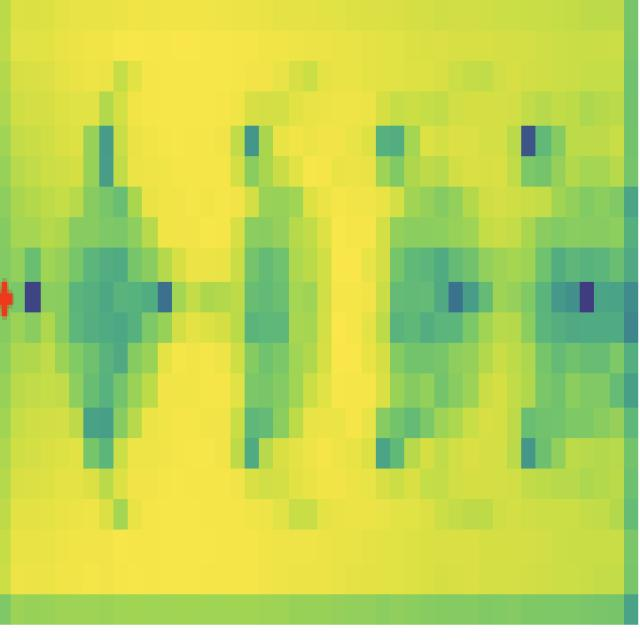Concrete: (57, 175, 156, 419)
Glass: (527, 171, 621, 443)
Metal: (235, 181, 324, 469)
Wood: (376, 173, 483, 440)
